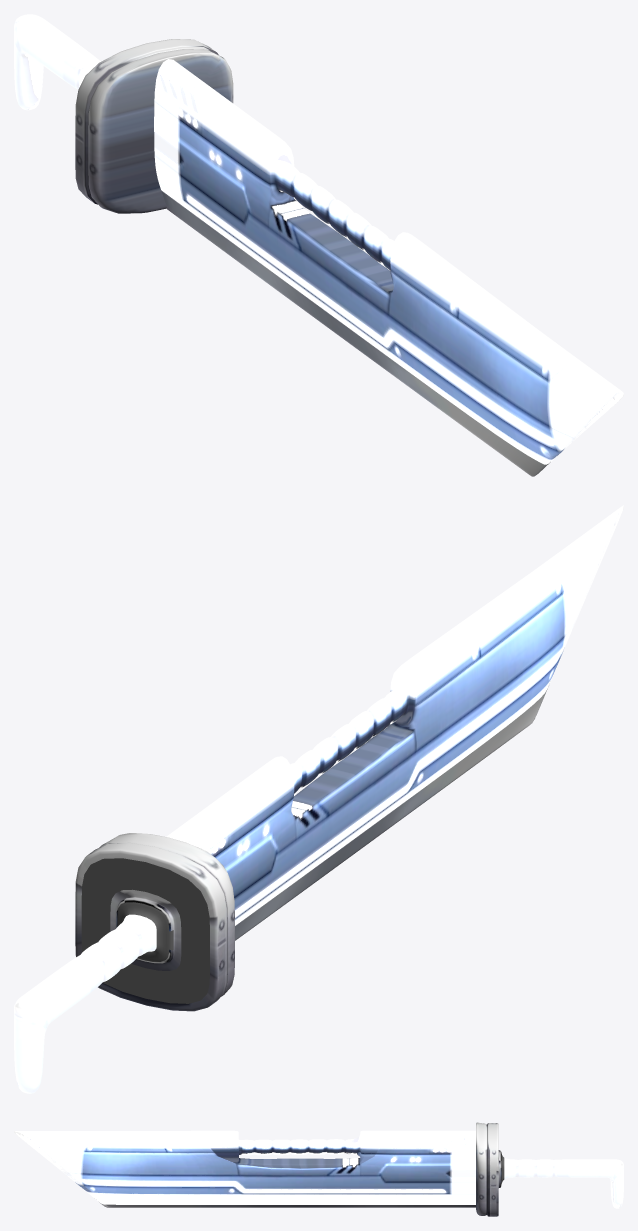
Rendered from weapon2.glb.
The picture shows the model from 3 angles, top to bottom: view 1: azimuth 30°, elevation 25°; view 2: azimuth 150°, elevation 25°; view 3: azimuth 270°, elevation 25°; orthographic projection. The views are drawn at different scales.
Visible parts, largest first — view 1: Cube.001, Cube; view 2: Cube.001, Cube; view 3: Cube.001, Cube.
Part boxes in pixels (x1=…): Cube.001: x1=154, y1=59, x2=623, y2=476; Cube: x1=14, y1=14, x2=233, y2=213; Cube.001: x1=166, y1=505, x2=623, y2=940; Cube: x1=14, y1=833, x2=234, y2=1093; Cube.001: x1=14, y1=1130, x2=475, y2=1207; Cube: x1=476, y1=1122, x2=623, y2=1216.
Bounding box in the file's own units: 1.81 × 1.85 × 13.23.
Materials: 3 (2 with a texture image).
